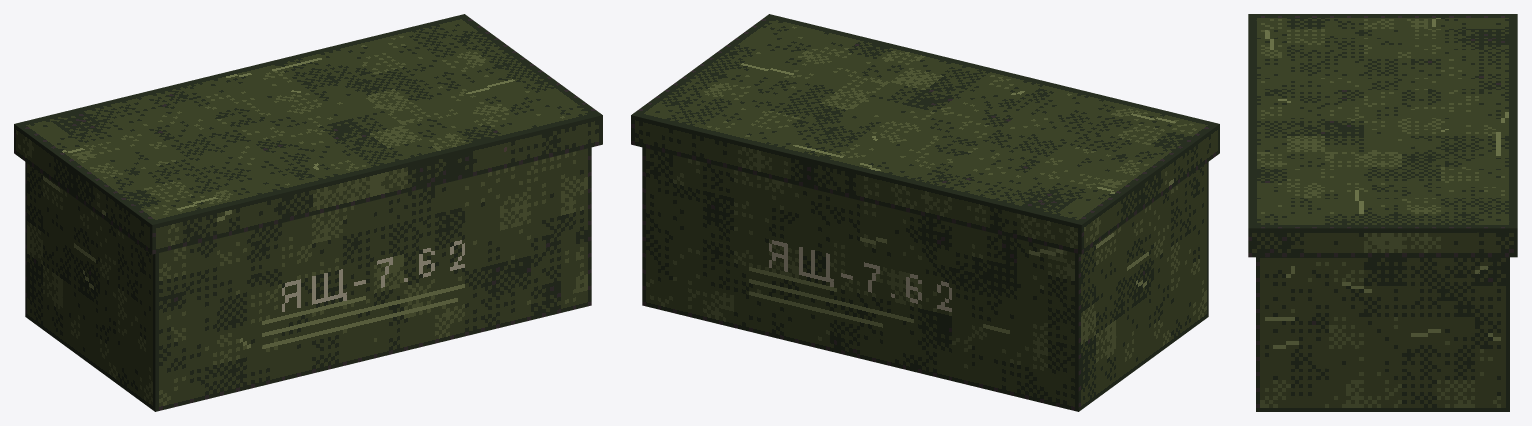
The model's file is SM_Crate_Ammo_01.glb.
3 renders of one model, left to right at view 1: azimuth 30°, elevation 25°; view 2: azimuth 150°, elevation 25°; view 3: azimuth 270°, elevation 25°, orthographic. The views are drawn at different scales.
Visible parts, largest first — view 1: SM_Crate_Ammo_01; view 2: SM_Crate_Ammo_01; view 3: SM_Crate_Ammo_01.
Boxes of the visible parts, left/top/right/bottom form: SM_Crate_Ammo_01: left=14, top=14, right=602, bottom=411; SM_Crate_Ammo_01: left=631, top=14, right=1219, bottom=411; SM_Crate_Ammo_01: left=1248, top=14, right=1517, bottom=411.
Size of the model in its own units: 0.64 by 0.26 by 0.34.
1 material, 1 textured.
